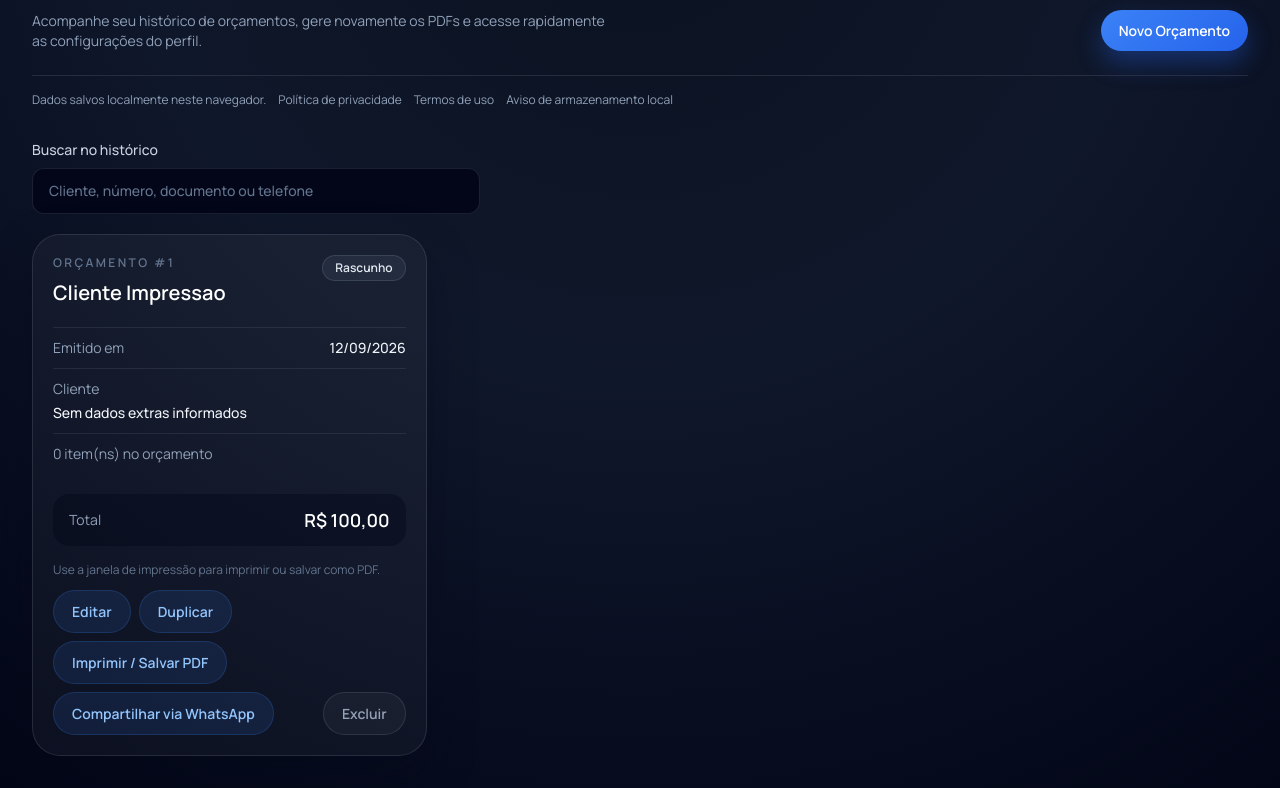
Test case: HomePage › shows a user-facing error when the print window can't be opened
This screenshot has width=1280, height=788.
(page scrolled)
Click the button "Imprimir / Salvar PDF" at coordinates (140, 662), box [53,641,227,684]
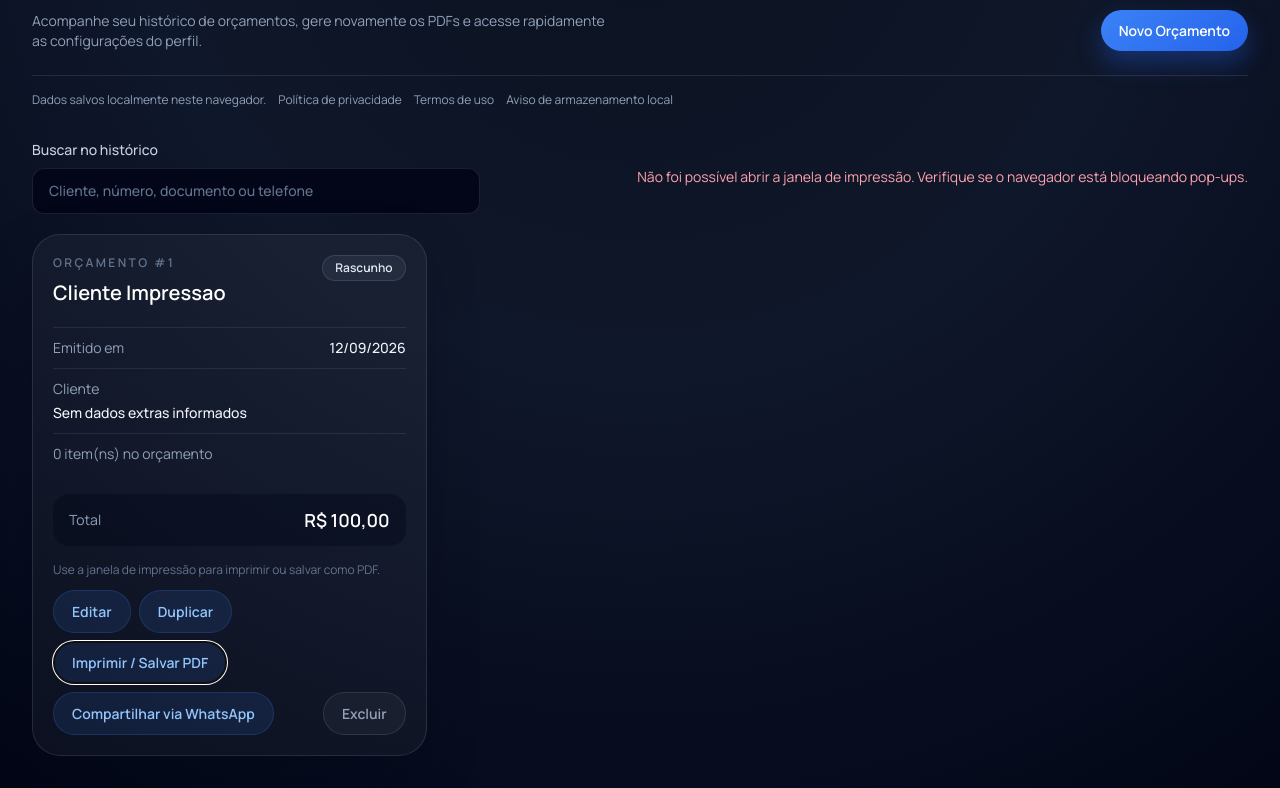
Expected: the text "Não foi possível abrir a janela de impressão. Verifique se o navegador está bloqueando pop-ups." is shown, [637,167,1248,186]
